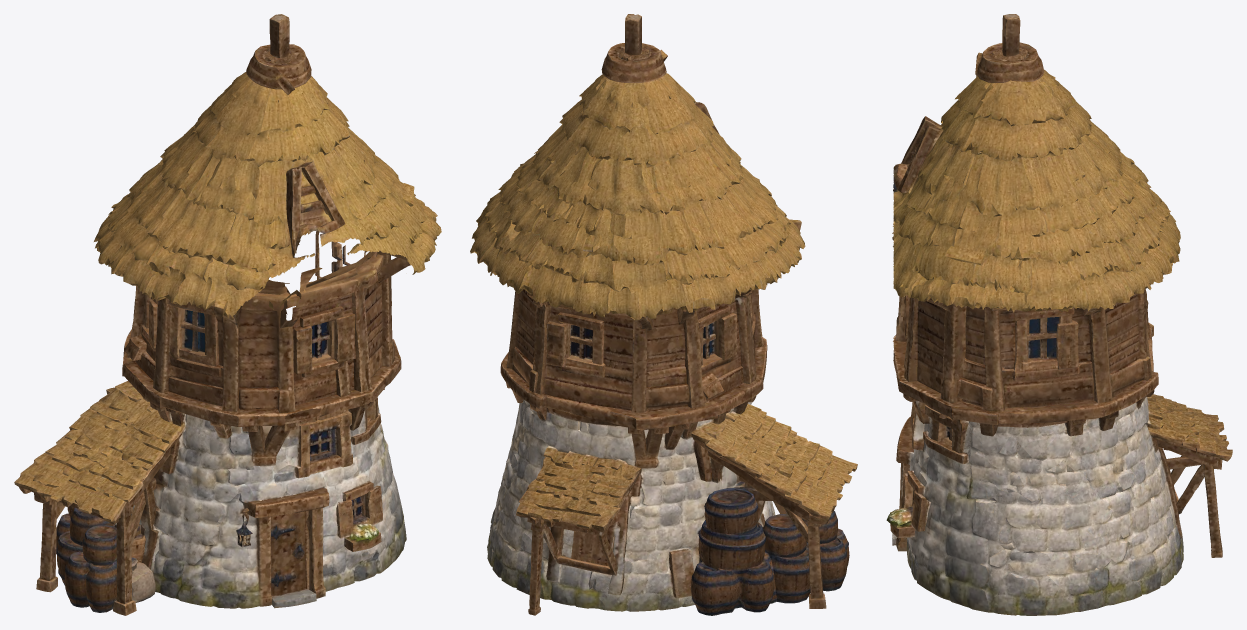
File: windmill_tower_lite.glb
The picture shows the model from 3 angles, left to right: view 1: azimuth 30°, elevation 25°; view 2: azimuth 150°, elevation 25°; view 3: azimuth 270°, elevation 25°; orthographic projection. The views are drawn at different scales.
Parts seen in each view (by area): view 1: geometry_0; view 2: geometry_0; view 3: geometry_0.
Part boxes in pixels (x1,y1,x2,y2): geometry_0: [14, 14, 441, 615]; geometry_0: [470, 14, 857, 615]; geometry_0: [886, 14, 1232, 615].
Size of the model in its own units: 1.3 by 1.78 by 1.03.
1 material, 1 textured.
